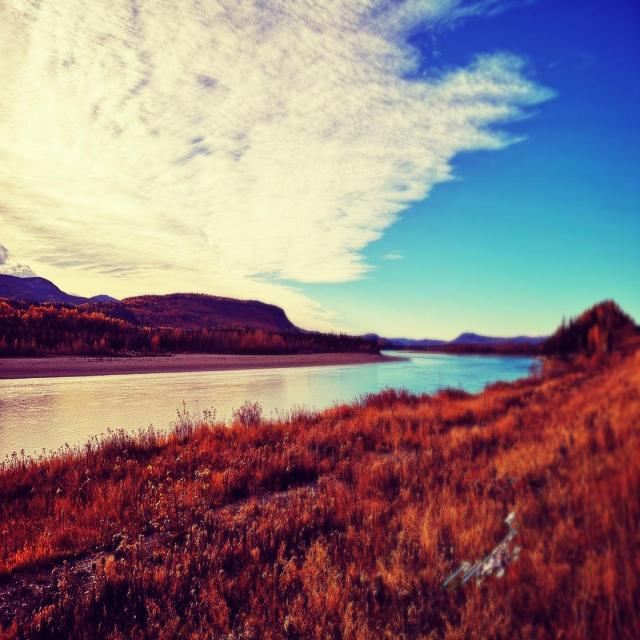airplane: (441, 511, 521, 592)
